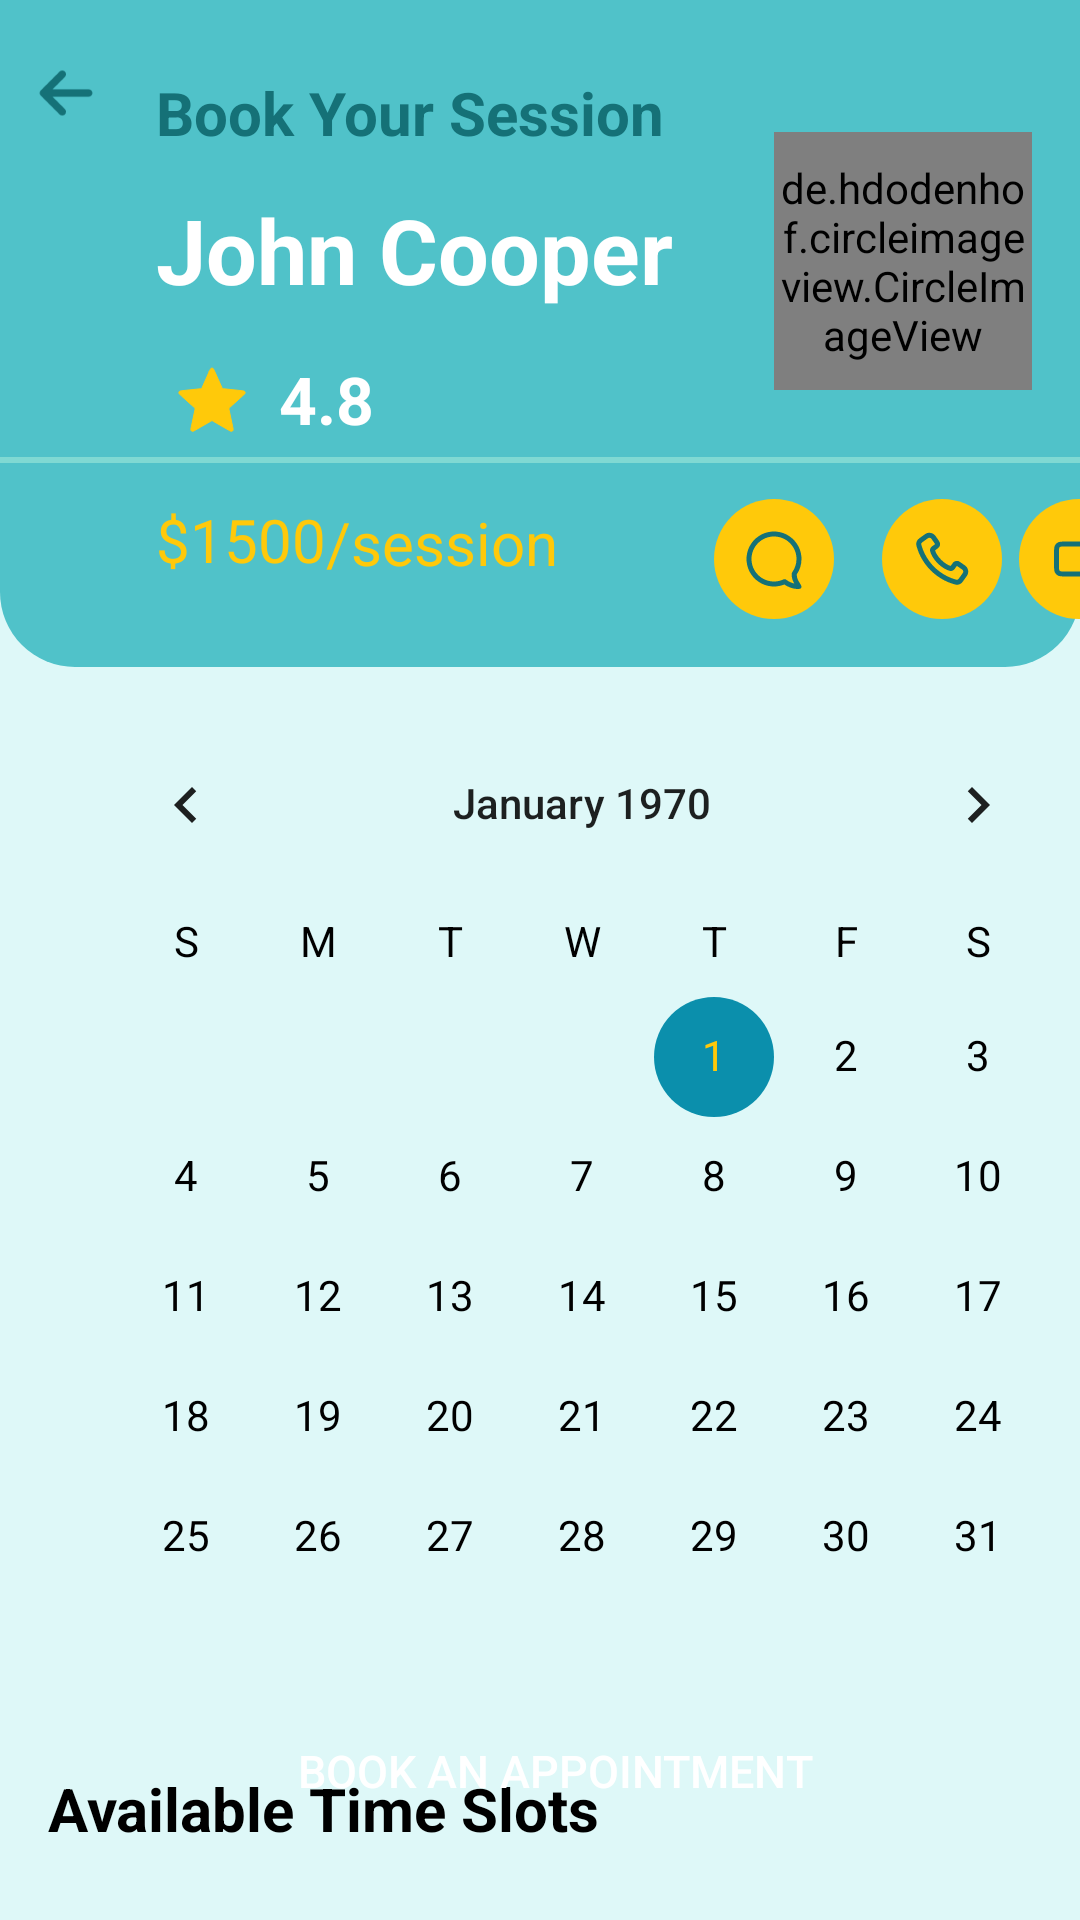

Named icons in this screenshot (1080w x 1920h) and their centers, [x,y]:
call: [942,559]
chatbubble: [774,559]
leftarrow: [66,93]
star: [212,399]
